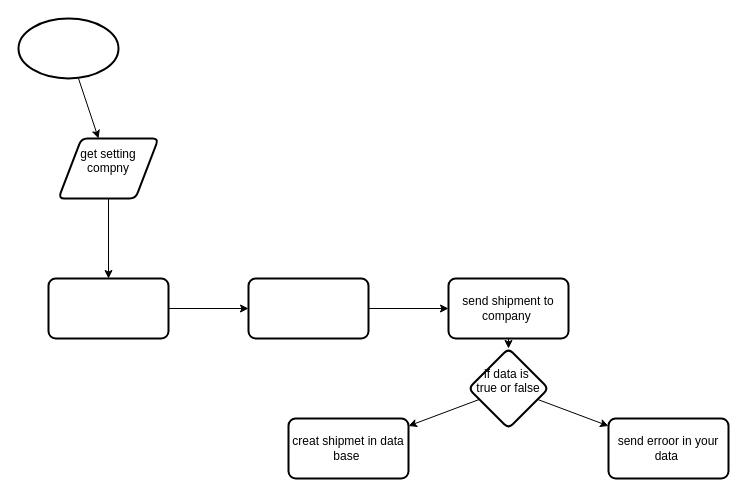
Some shapes in this 746 by 496 pixel diagram are drawn without their labels. Each missing label, with the centre of its shape:
"culcet shipment price" goes at (x=108, y=308).
"get company" goes at (x=68, y=48).
"translion data to company stracsher data" goes at (x=308, y=308).
